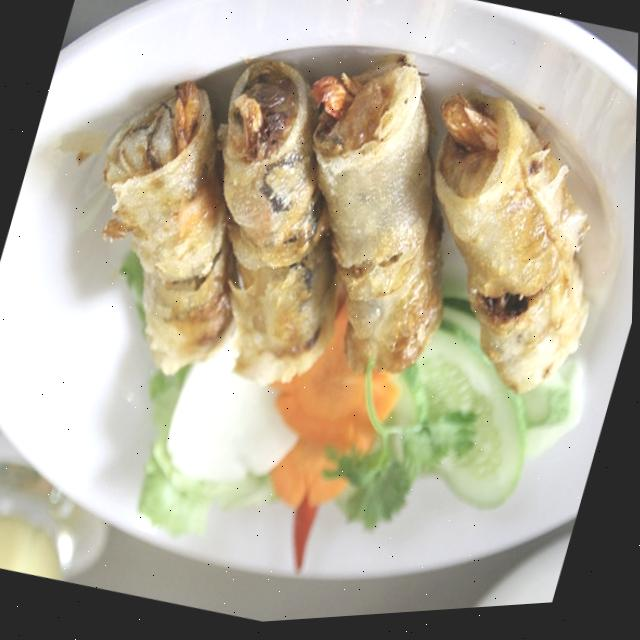炸货点心: (4, 0, 640, 503)
